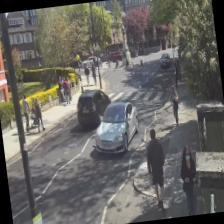person: (143, 126, 170, 212), (176, 145, 202, 216)
